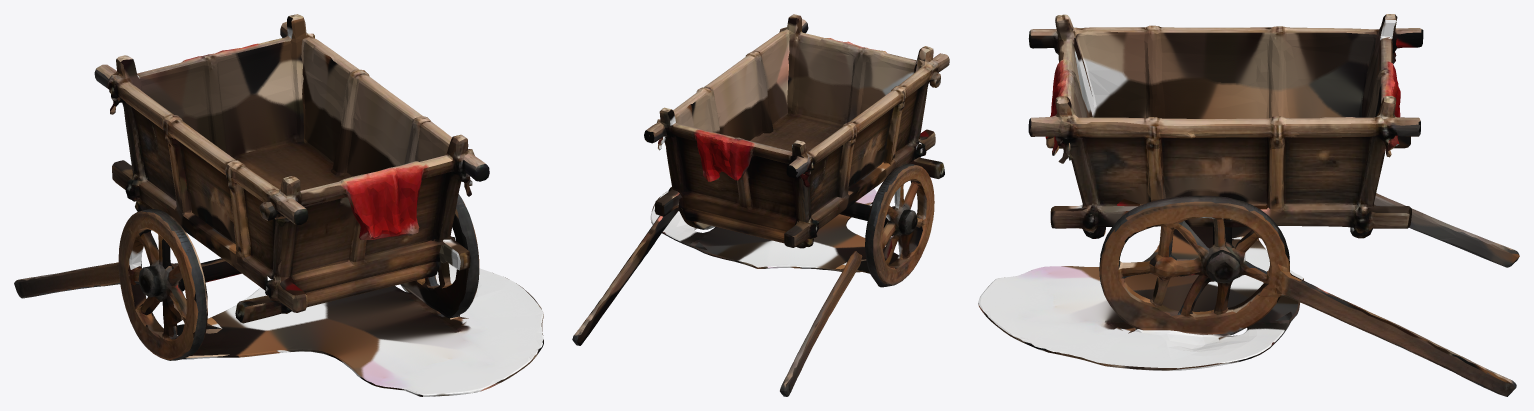
File: shadowlands_broken_cart.glb
3 views of the same model, side by side, from view 1: azimuth 30°, elevation 25°; view 2: azimuth 150°, elevation 25°; view 3: azimuth 270°, elevation 25° (orthographic). The views are drawn at different scales.
Parts seen in each view (by area): view 1: temp_mesh.ply; view 2: temp_mesh.ply; view 3: temp_mesh.ply.
Part boxes in pixels (x1,y1,x2,y2): temp_mesh.ply: (14, 14, 543, 396); temp_mesh.ply: (572, 14, 949, 396); temp_mesh.ply: (978, 14, 1519, 396).
Bounding box in the file's own units: 1.46 × 1.09 × 1.97.
1 material, 1 textured.
